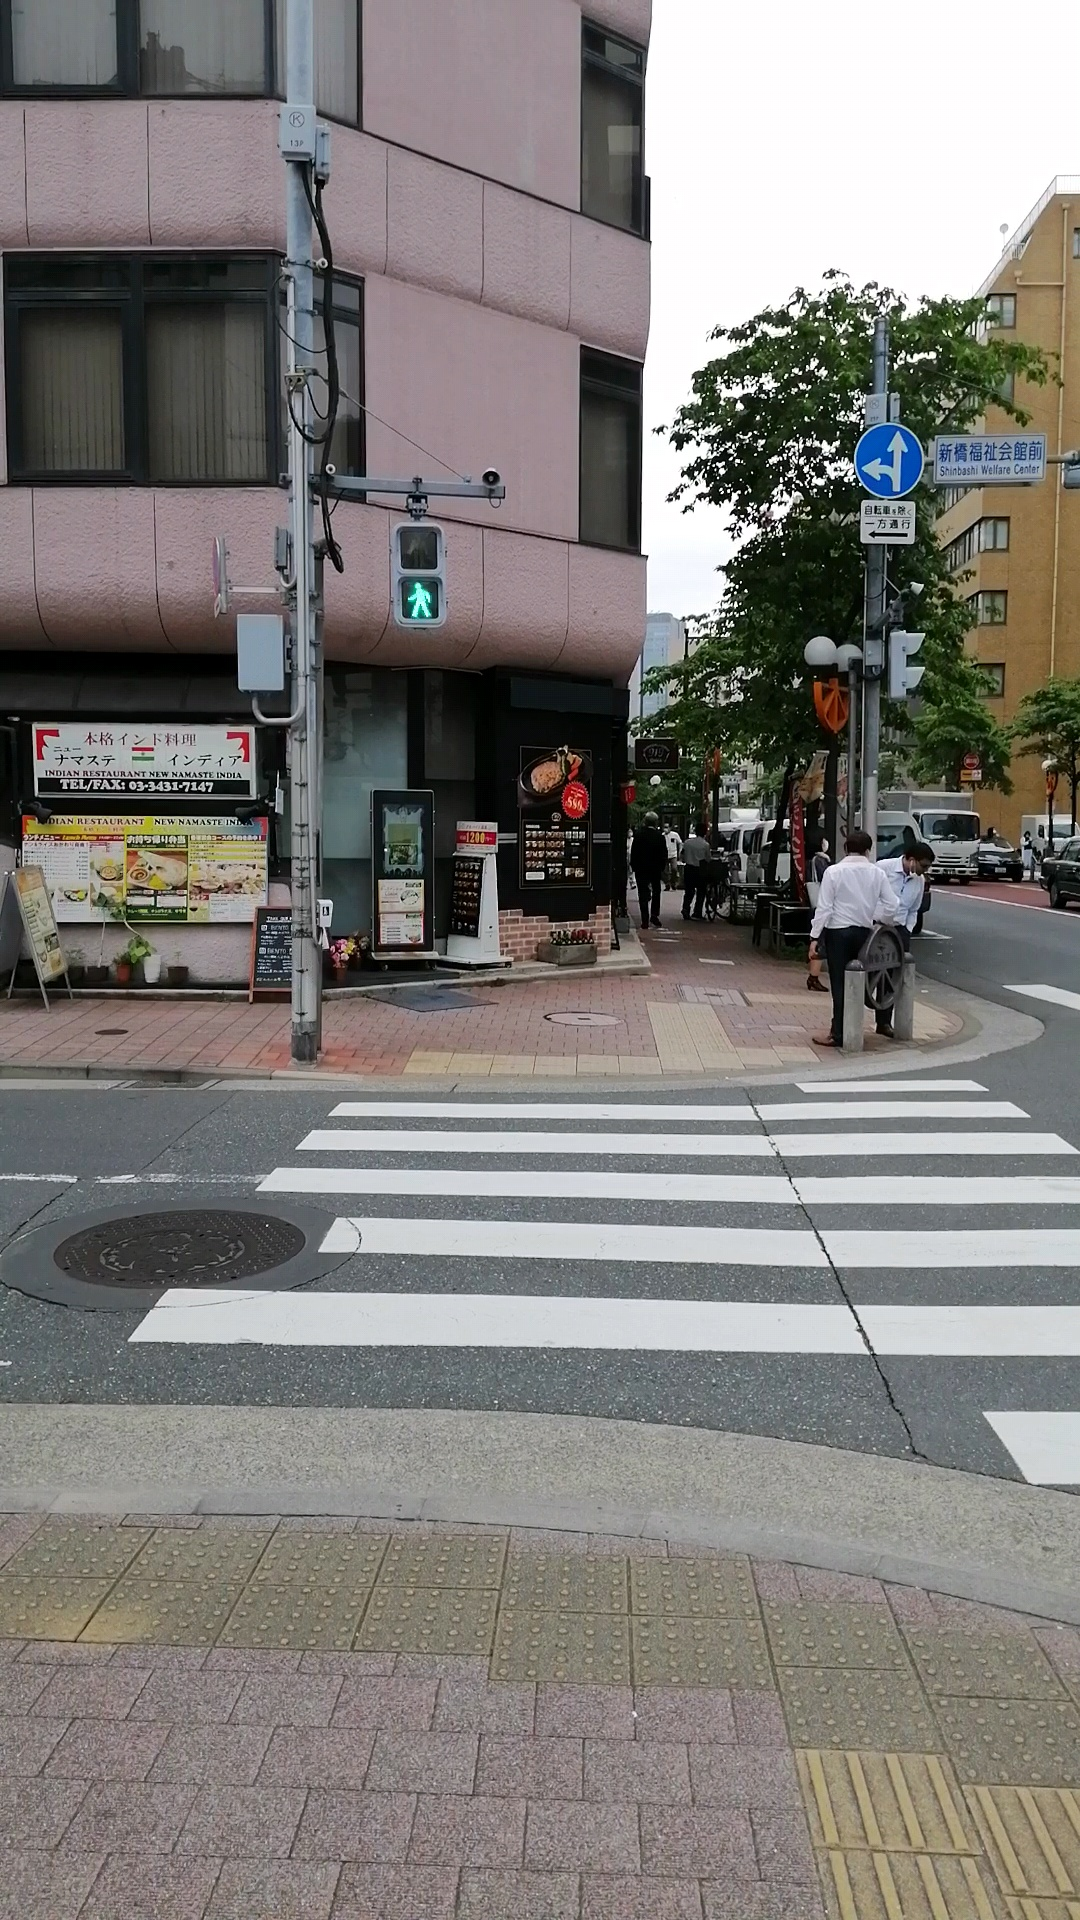green: (389, 520, 444, 629)
